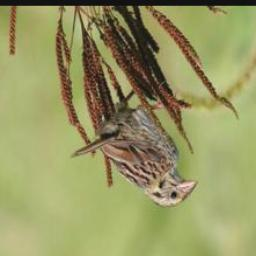Sparrow: (70, 84, 200, 209)
